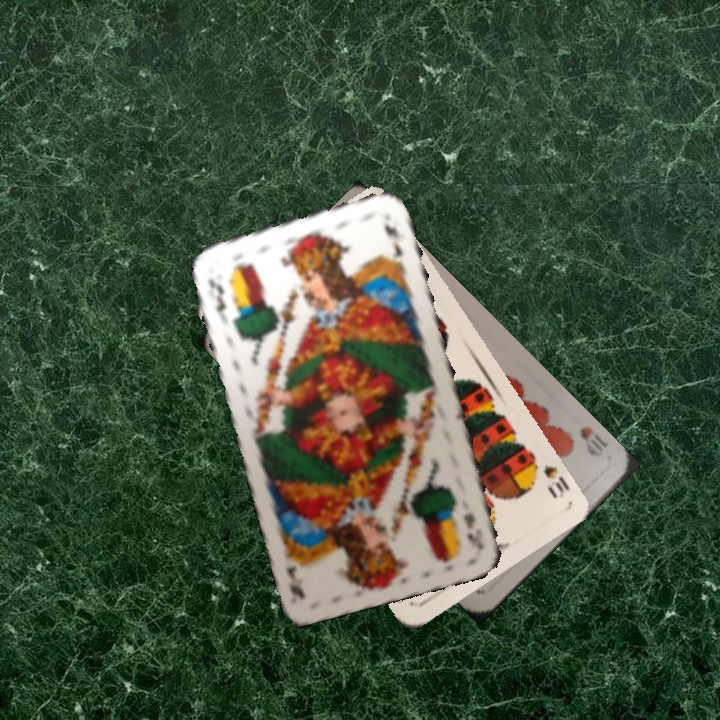EK: (459, 508, 486, 551), (204, 274, 229, 320)
H10: (575, 422, 610, 460)
S10: (525, 453, 572, 501)
